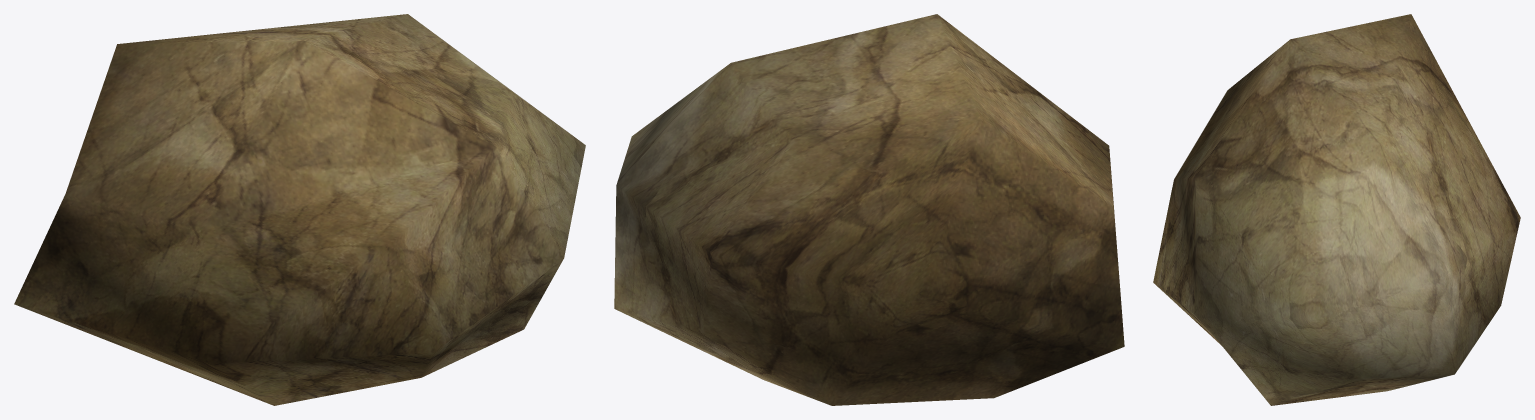
The model's file is Rock01.FBX.
3 renders of one model, left to right at view 1: azimuth 30°, elevation 25°; view 2: azimuth 150°, elevation 25°; view 3: azimuth 270°, elevation 25°, orthographic. The views are drawn at different scales.
Visible parts, largest first — view 1: Rock01; view 2: Rock01; view 3: Rock01.
Boxes of the visible parts, bbox=[...] form: Rock01: bbox=[14, 14, 585, 405]; Rock01: bbox=[614, 14, 1124, 405]; Rock01: bbox=[1153, 14, 1520, 405].
Size of the model in its own units: 788 by 508 by 553.
